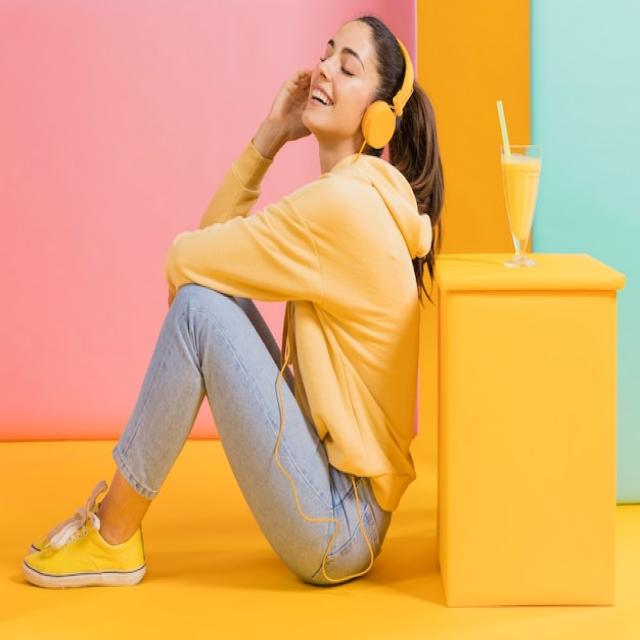Headphone: (362, 35, 416, 153)
